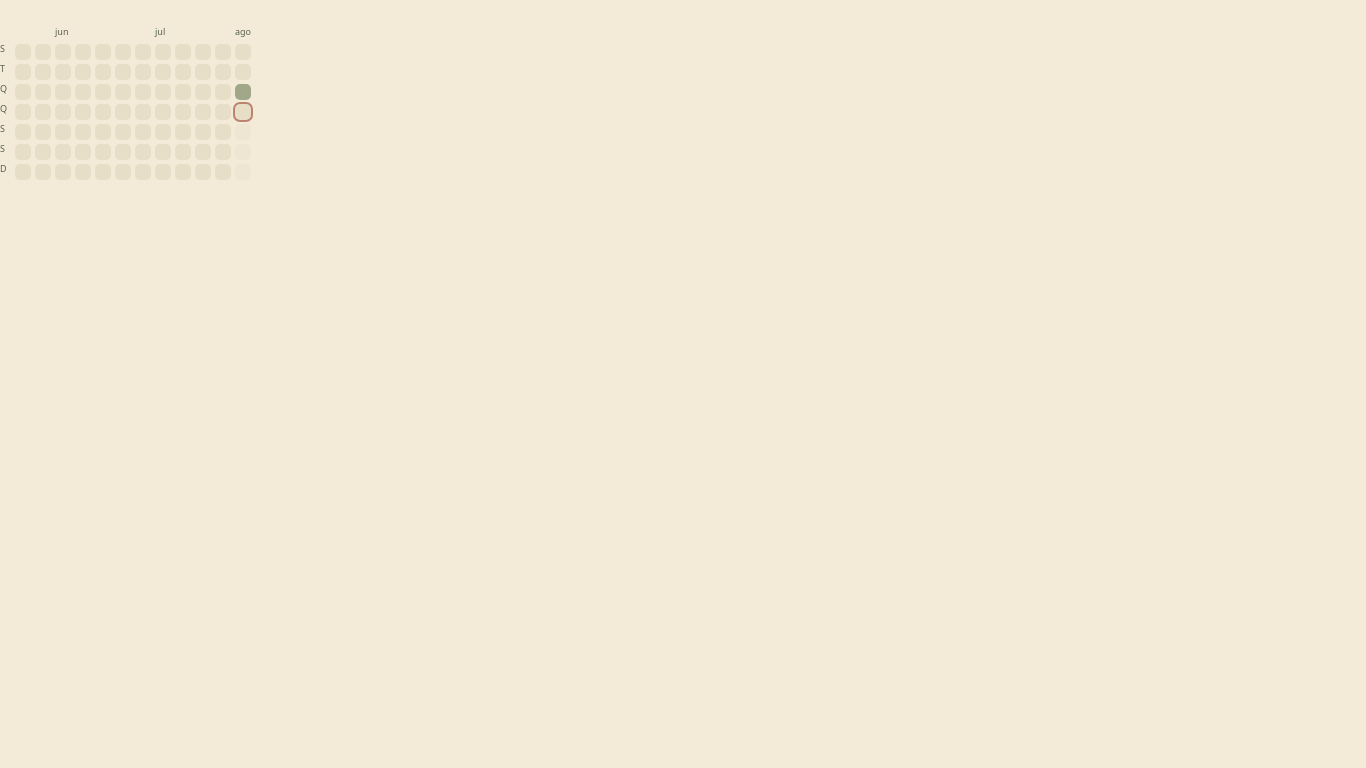
MapaCalor — ordem e formatação do popover no fuso local › ordena corretamente quando os registros vêm com deslocamentos de fuso diferentes
The image size is (1366, 768).
Click the button named "05 de ago. — 2 práticas". click: {"x": 243, "y": 92}
box: [235, 84, 251, 100]
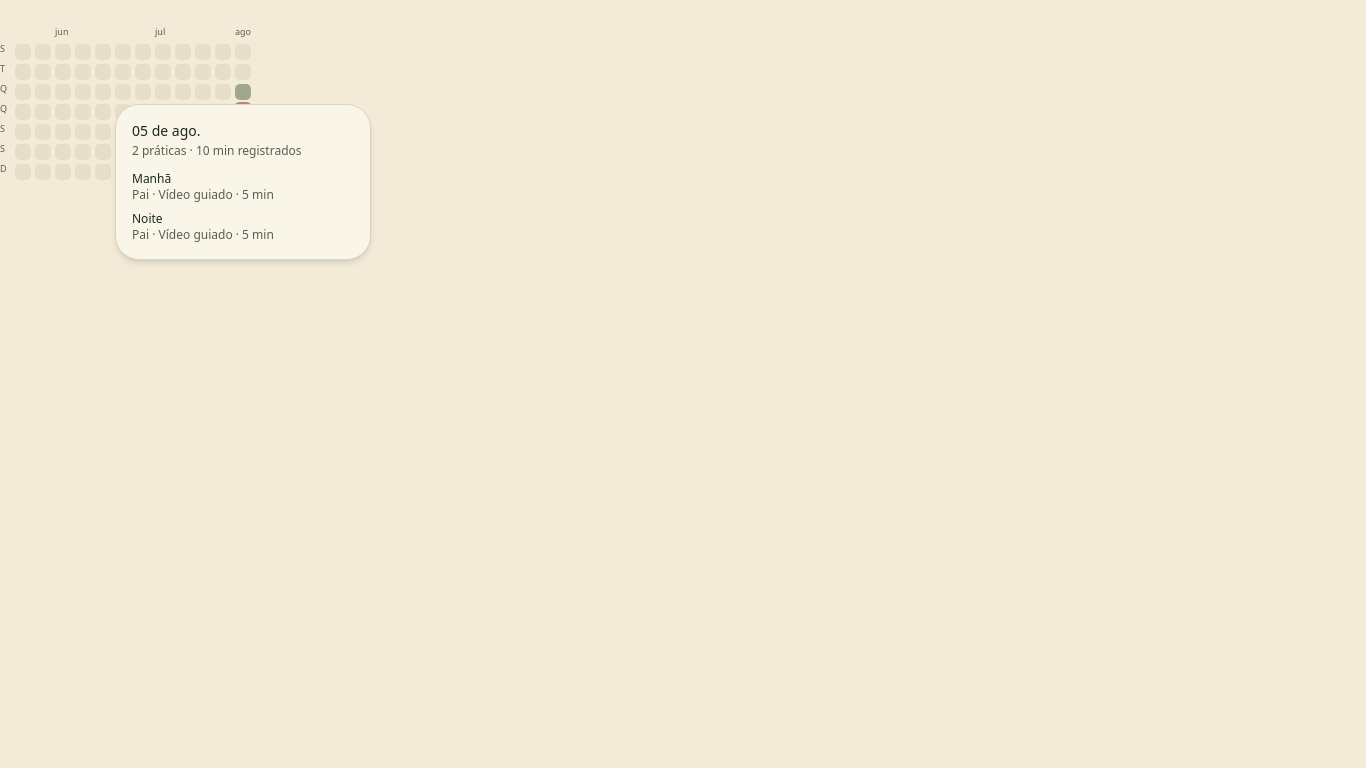
Now the list item "Manhã Pai · Vídeo guiado · 5 min" is shown, box [132, 170, 274, 203]
Now the list item "Noite Pai · Vídeo guiado · 5 min" is shown, box [132, 210, 274, 243]
